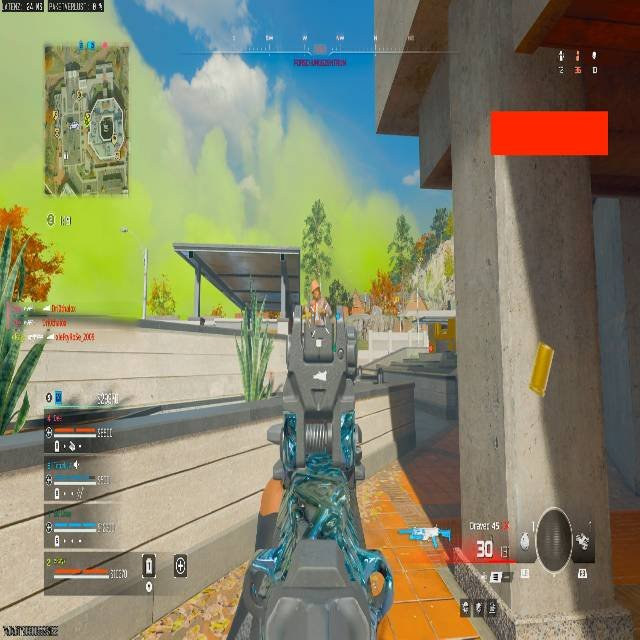player: (3, 230, 63, 335), (375, 366, 384, 384)
